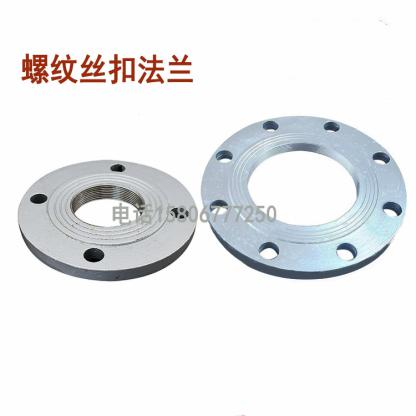FOD: (198, 109, 410, 280), (14, 155, 199, 285)
